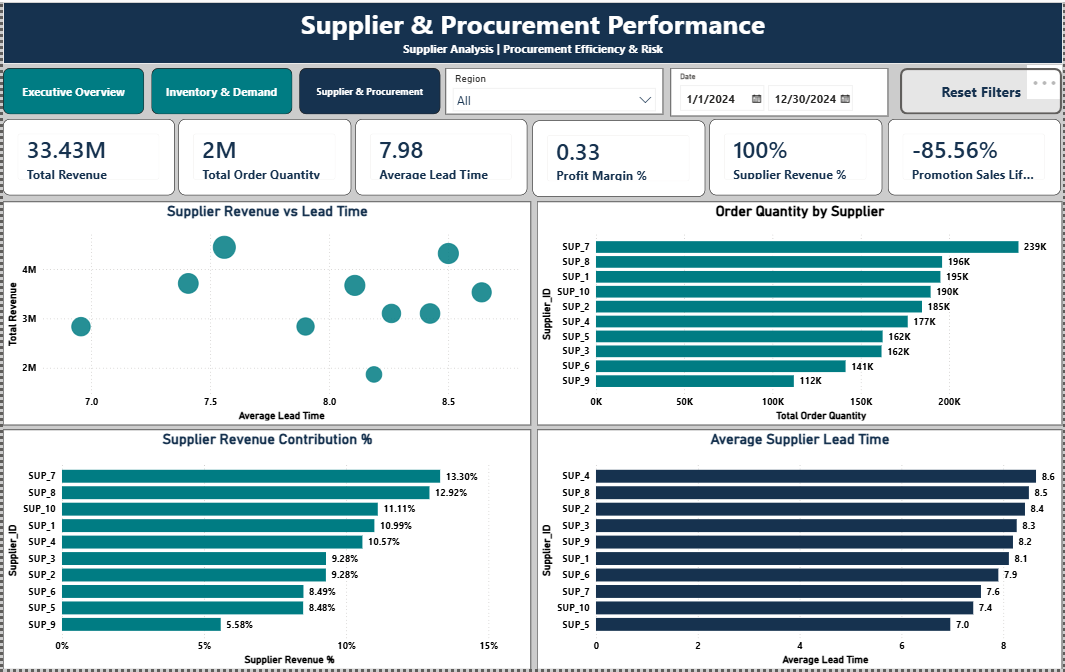

What the dashboard file says about the page in this screenshot:
{"tool":"powerbi","page":{"name":"Supplier & Procurement","canvas":[1510,950],"ordinal":2},"visuals":[{"type":"clusteredBarChart","title":"Supplier Revenue Contribution %","fields":{"Category":["Dim_Supplier.Supplier_ID"],"Y":["Measures Table.Supplier Revenue %"]},"box":[0,608.9,752,341.8],"z":0},{"type":"clusteredBarChart","title":"Order Quantity by Supplier","fields":{"Category":["Dim_Supplier.Supplier_ID"],"Y":["Measures Table.Total Order Quantity"]},"box":[760.6,284.2,747.8,318.3],"z":1000},{"type":"slicer","fields":{"Values":["Dim_Region.Region"]},"box":[630.3,94,309.8,66.2],"z":2000},{"type":"slicer","fields":{"Values":["Dim_Date.Date"]},"box":[950.7,94,309.8,68.4],"z":3000},{"type":"scatterChart","title":"Supplier Revenue vs Lead Time","fields":{"X":["Measures Table.Average  Lead Time"],"Y":["Measures Table.Total Revenue"],"Size":["Measures Table.Total Order Quantity"],"Category":["Dim_Supplier.Supplier_ID"]},"box":[0,284.2,752,318.3],"z":4000},{"type":"clusteredBarChart","title":"Average Supplier Lead Time","fields":{"Category":["Dim_Supplier.Supplier_ID"],"Y":["Measures Table.Average  Lead Time"]},"box":[760.6,608.2,747.8,341.8],"z":5000},{"type":"textbox","box":[0,0,1510,87],"z":6000},{"type":"cardVisual","fields":{"Data":["Measures Table.Total Revenue"]},"box":[0,166.3,244.7,109],"z":7000},{"type":"cardVisual","fields":{"Data":["Measures Table.Total Order Quantity"]},"box":[250,166.3,245.7,109],"z":8000},{"type":"cardVisual","fields":{"Data":["Measures Table.Average  Lead Time"]},"box":[502.1,166.3,244.7,109],"z":9000},{"type":"cardVisual","fields":{"Data":["Measures Table.Profit Margin %"]},"box":[754.2,167.9,245.7,109],"z":10000},{"type":"cardVisual","fields":{"Data":["Measures Table.Supplier Revenue %"]},"box":[1006.3,166.6,245.7,109],"z":11000},{"type":"cardVisual","fields":{"Data":["Measures Table.Promotion Sales Lift %"]},"box":[1260.5,166.6,245.7,109],"z":12000},{"type":"pageNavigator","box":[0,94,623.9,66.2],"z":13000},{"type":"actionButton","box":[1277.6,94,230.7,66.2],"z":13001}]}

Visuals, with their boxes in screenshot pixels (x1, y1, x2, y2), scaled from the page's 1510x950 canvas onto the 1065x672 screenshot:
"Supplier Revenue Contribution %" clusteredBarChart: 0, 431, 530, 671
"Order Quantity by Supplier" clusteredBarChart: 536, 201, 1064, 426
slicer - Dim_Region.Region: 445, 66, 663, 113
slicer - Dim_Date.Date: 671, 66, 889, 115
"Supplier Revenue vs Lead Time" scatterChart: 0, 201, 530, 426
"Average Supplier Lead Time" clusteredBarChart: 536, 430, 1064, 671
textbox: 0, 0, 1064, 62
cardVisual - Measures Table.Total Revenue: 0, 118, 173, 195
cardVisual - Measures Table.Total Order Quantity: 176, 118, 350, 195
cardVisual - Measures Table.Average  Lead Time: 354, 118, 527, 195
cardVisual - Measures Table.Profit Margin %: 532, 119, 705, 196
cardVisual - Measures Table.Supplier Revenue %: 710, 118, 883, 195
cardVisual - Measures Table.Promotion Sales Lift %: 889, 118, 1062, 195
pageNavigator: 0, 66, 440, 113
actionButton: 901, 66, 1064, 113
